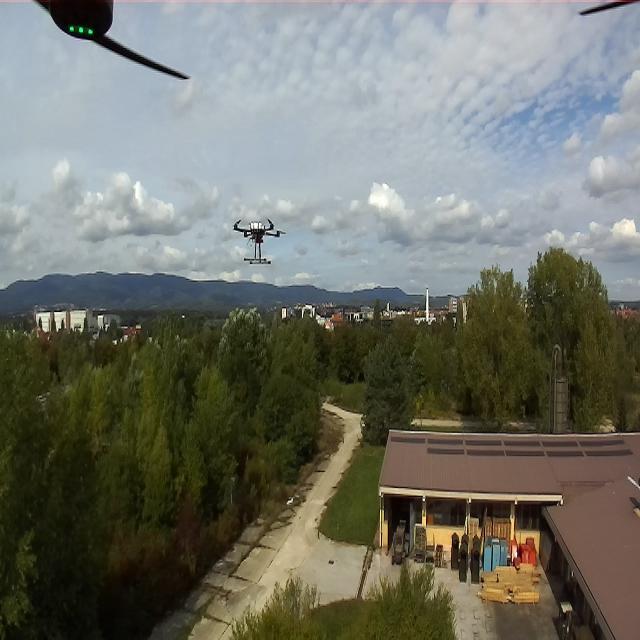UAV: (227, 209, 287, 268)
